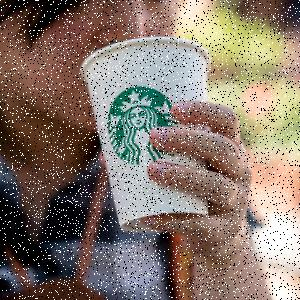Cup: (81, 36, 213, 235)
